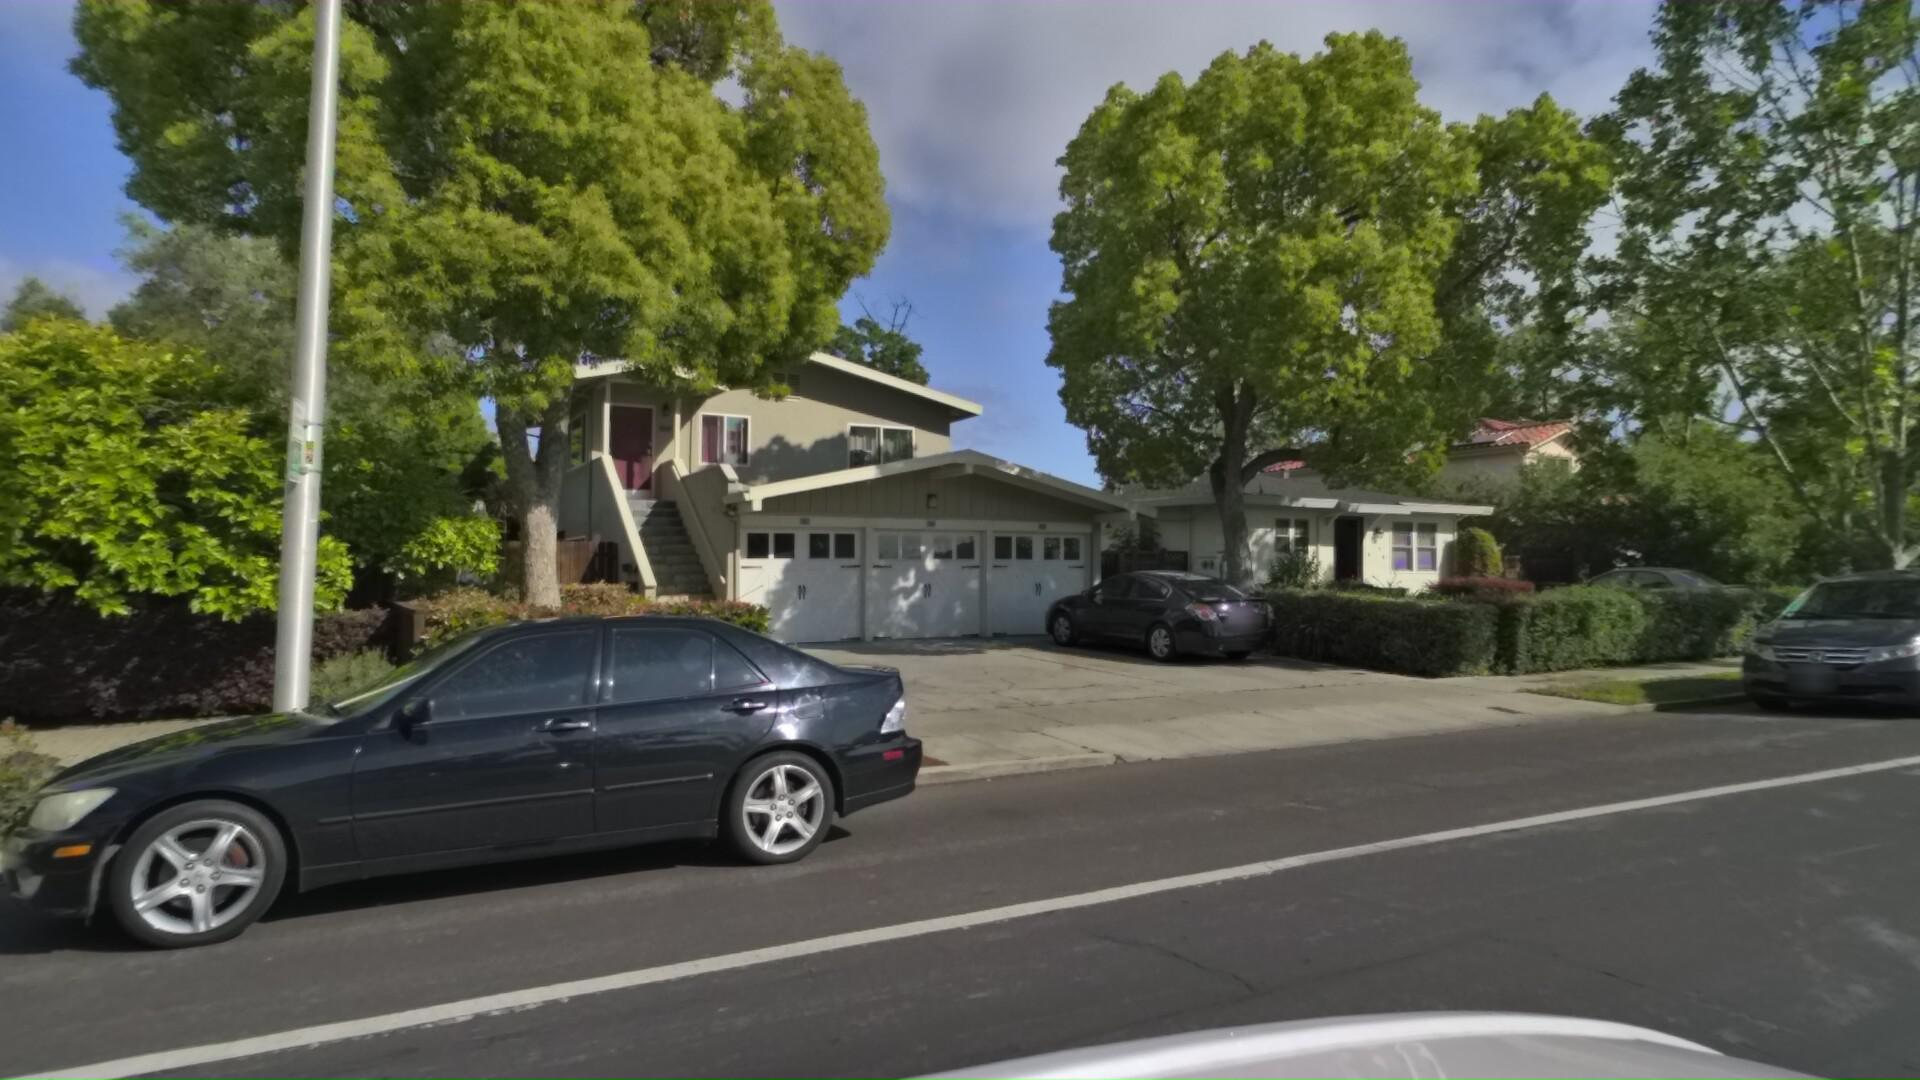car: (0, 596, 920, 1054), (1698, 560, 1920, 750), (1017, 562, 1273, 674), (1520, 563, 1758, 640)
